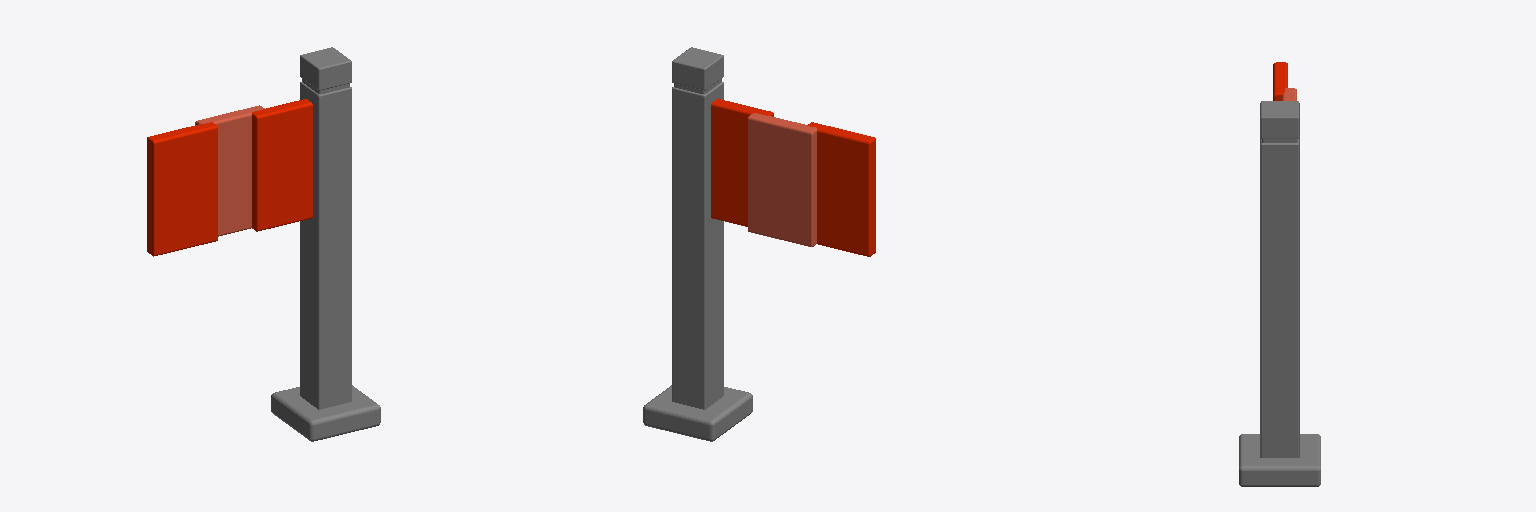
Rendered from flag.obj.
3 views of the same model, side by side, from view 1: azimuth 30°, elevation 25°; view 2: azimuth 150°, elevation 25°; view 3: azimuth 270°, elevation 25° (orthographic).
Visible parts, largest first — view 1: 000_pole, 004_Box_6, 006_Box_4, 005_Box_5, 003_plate, 002_top; view 2: 000_pole, 005_Box_5, 004_Box_6, 006_Box_4, 003_plate, 002_top; view 3: 000_pole, 003_plate, 002_top.
Boxes of the visible parts, x1=… form: 000_pole: x1=300, y1=82, x2=351, y2=409; 004_Box_6: x1=147, y1=122, x2=217, y2=256; 006_Box_4: x1=252, y1=99, x2=312, y2=231; 005_Box_5: x1=195, y1=105, x2=264, y2=236; 003_plate: x1=271, y1=385, x2=380, y2=441; 002_top: x1=300, y1=47, x2=351, y2=90; 000_pole: x1=672, y1=82, x2=723, y2=409; 005_Box_5: x1=748, y1=113, x2=816, y2=246; 004_Box_6: x1=807, y1=122, x2=875, y2=256; 006_Box_4: x1=711, y1=99, x2=773, y2=226; 003_plate: x1=643, y1=385, x2=752, y2=441; 002_top: x1=672, y1=47, x2=723, y2=90; 000_pole: x1=1260, y1=138, x2=1299, y2=457; 003_plate: x1=1239, y1=434, x2=1320, y2=486; 002_top: x1=1260, y1=101, x2=1299, y2=138.
Size of the model in its own units: 207 by 338 by 70.